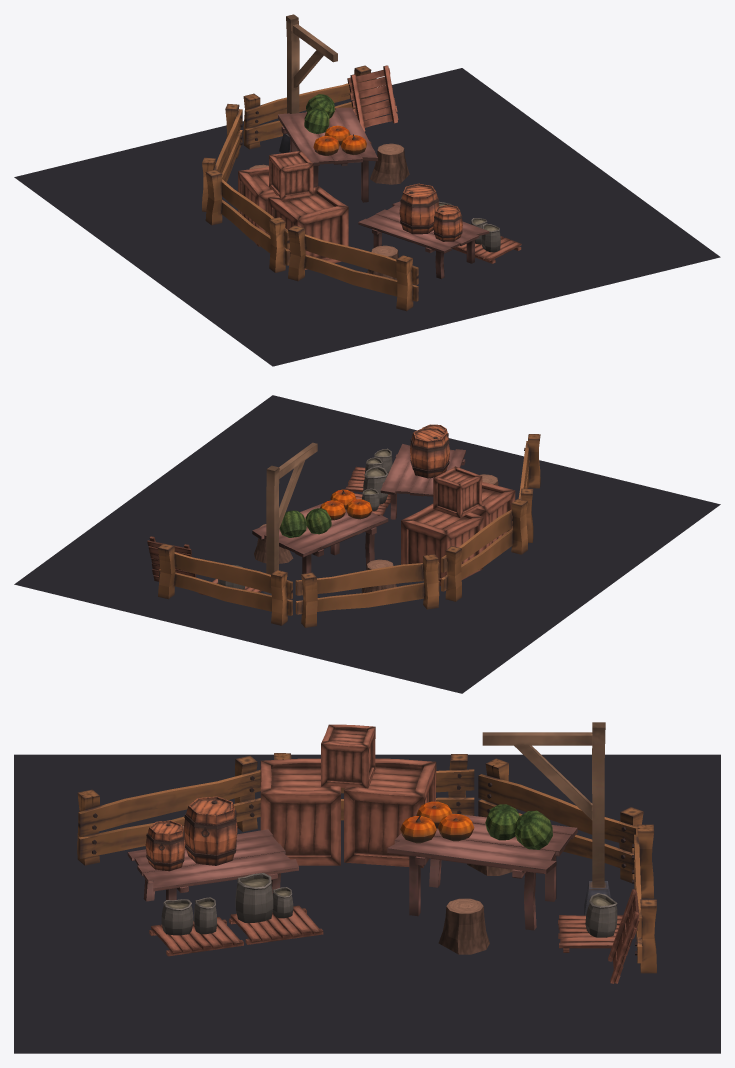
File: Asset_pack.fbx
3 views of the same model, one above another, from view 1: azimuth 30°, elevation 25°; view 2: azimuth 150°, elevation 25°; view 3: azimuth 270°, elevation 25° (orthographic). The views are drawn at different scales.
Parts seen in each view (by area): view 1: Plane, Cube.004, Cube.005, Cube, Cube.008, Cube.007, Cube.001, Cube.013, Cube.003, Cube.010, Cylinder.009, Cube.006 (+4 smaller); view 2: Plane, Cube.006, Cube.007, Cube.005, Cube.009, Cube.008, Cube.003, Cube.010, Cube.001, Cylinder.009, Cube.004, Cube (+4 smaller); view 3: Plane, Cube.004, Cube, Cube.008, Cube.009, Cube.006, Cube.003, Cube.001, Cube.010, Cylinder.009, Cube.007, Cylinder.004 (+16 smaller).
Boxes of the visible parts, x1,y1,x2,y2 form: Plane: (14,68,720,366); Cube.004: (288,225,418,311); Cube.005: (205,169,290,272); Cube: (268,186,348,269); Cube.008: (278,107,377,202); Cube.007: (243,65,376,149); Cube.001: (358,201,489,278); Cube.013: (347,65,398,131); Cube.003: (279,14,337,153); Cube.010: (269,150,313,199); Cylinder.009: (399,183,439,234); Cube.006: (202,104,242,211); Plane: (14,395,720,693); Cube.006: (295,554,439,627); Cube.007: (158,543,292,625); Cube.005: (441,499,527,601); Cube.009: (401,504,483,585); Cube.008: (252,500,388,573); Cube.003: (261,442,317,595); Cube.010: (433,466,482,518); Cube.001: (380,444,465,519); Cylinder.009: (410,427,449,478); Cube.004: (518,434,540,542); Cube: (471,482,515,549); Plane: (14,754,720,1053); Cube.004: (77,755,260,865); Cube: (260,758,340,865); Cube.008: (387,813,577,930); Cube.009: (344,758,436,867); Cube.006: (478,758,643,882); Cube.003: (482,722,610,915); Cube.001: (127,829,298,901); Cube.010: (321,724,375,788); Cylinder.009: (183,796,237,865); Cube.007: (632,824,656,973); Cylinder.004: (438,898,489,954).
Bounding box in the file's own units: 2676 × 884 × 2676.
